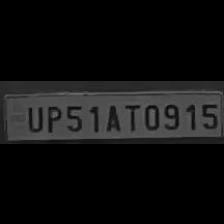0: (140, 100, 160, 130)
1: (180, 100, 198, 130), (86, 100, 102, 132)
5: (62, 100, 84, 132), (197, 99, 219, 129)
9: (160, 100, 180, 130)
A: (100, 100, 122, 132)
P: (42, 102, 60, 132)
T: (123, 99, 141, 130)
U: (22, 102, 44, 132)
